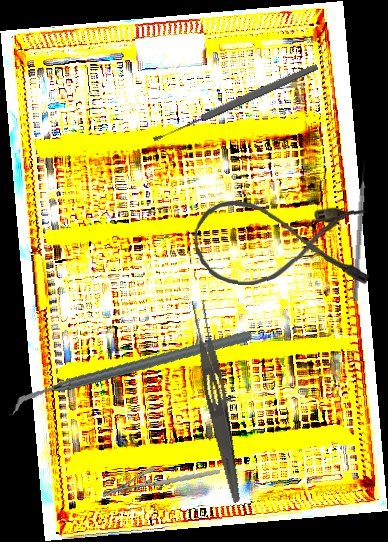Cannula: (191, 199, 372, 290)
Chopper: (8, 298, 254, 447)
Dressing Forceps: (185, 297, 251, 505)
Hook Surgical: (351, 159, 369, 302)
Needle Holder: (102, 453, 221, 514)
Surgical Spoon: (151, 62, 320, 144)
